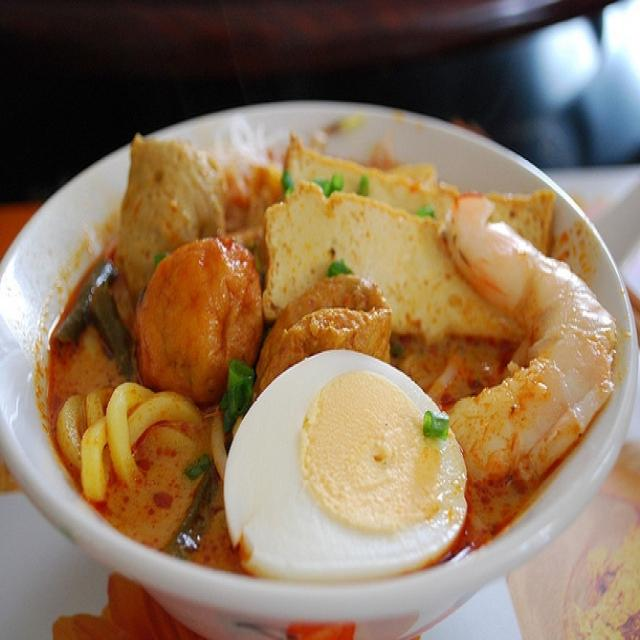面条主食: (64, 63, 601, 610)
